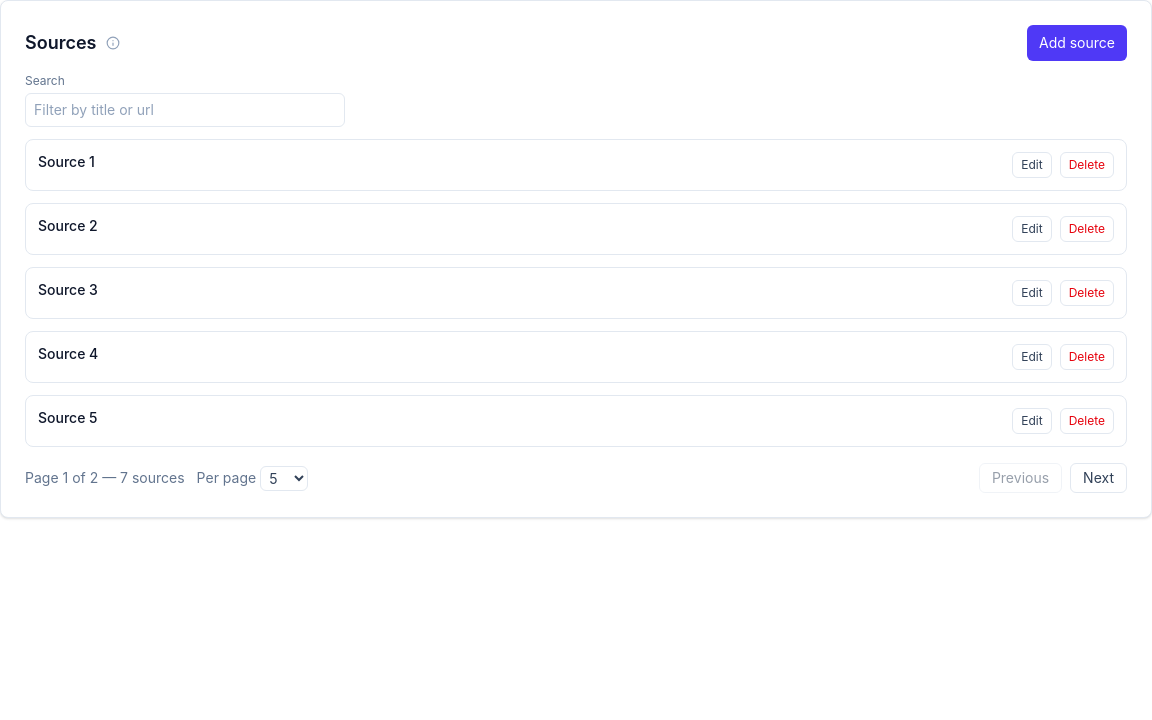
Test: TASK-UXT: sources pagination and search › pages long source lists at 5 per page via the shared Pagination
Check: the text "Page 1 of 2 — 7 sources" is shown, box [25,468,185,488]
Click the button "Next": [1099, 478] box [1070,463,1127,493]
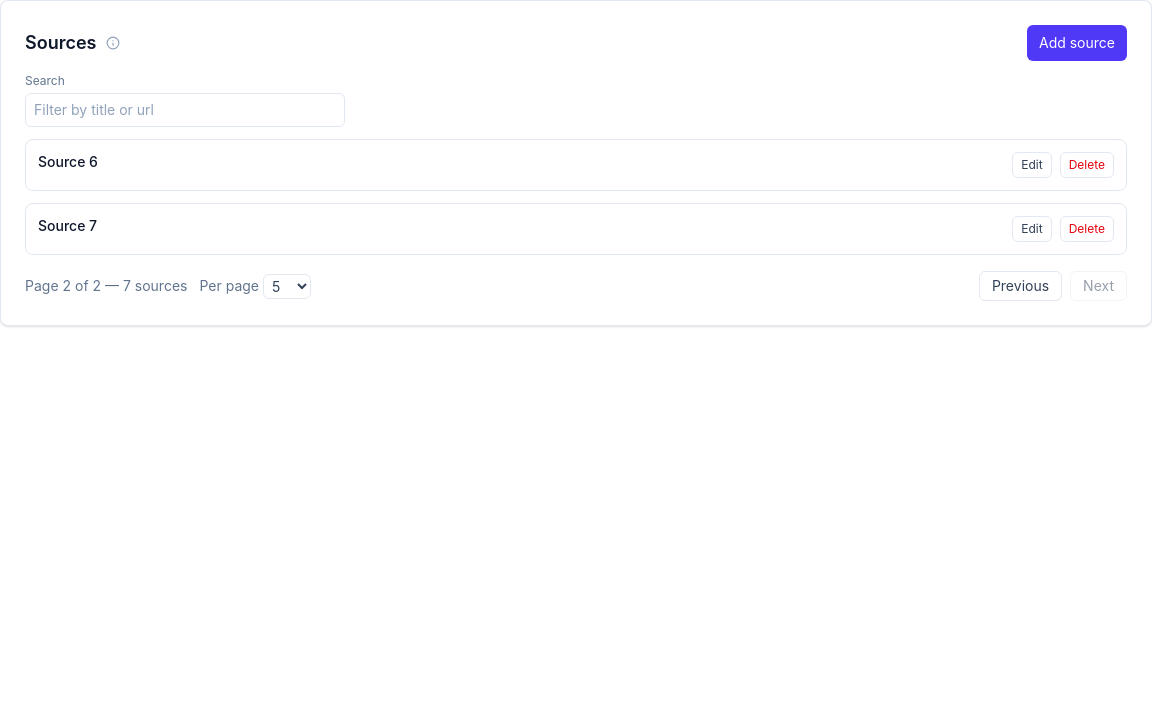
Check: the text "Source 6" is shown, box [38,152,98,172]
Check: the text "Source 7" is shown, box [38,216,97,236]
